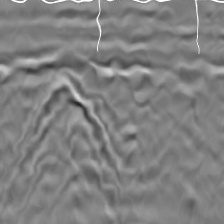Utility: (9, 72, 122, 199)
